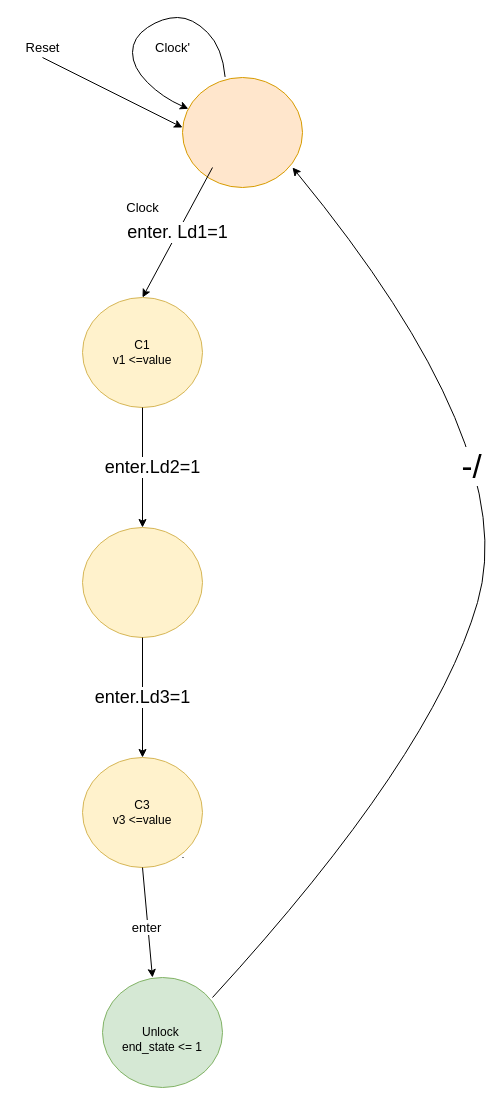
Image size: 502x1105. Some labels were removed from this diagram. The box of each missing label's shape, as (x1, y1, x2, y2) in pixels:
C2 v2 <= value: (82, 526, 202, 638)
Idle: (182, 76, 302, 188)
